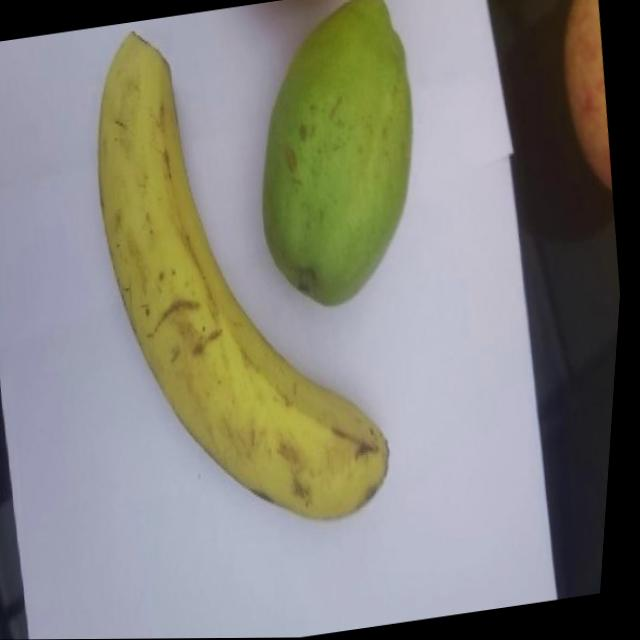Apple: (542, 0, 626, 199)
Banana: (60, 0, 430, 554)
